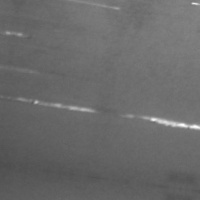scratches: (16, 93, 97, 117), (126, 109, 189, 132)
